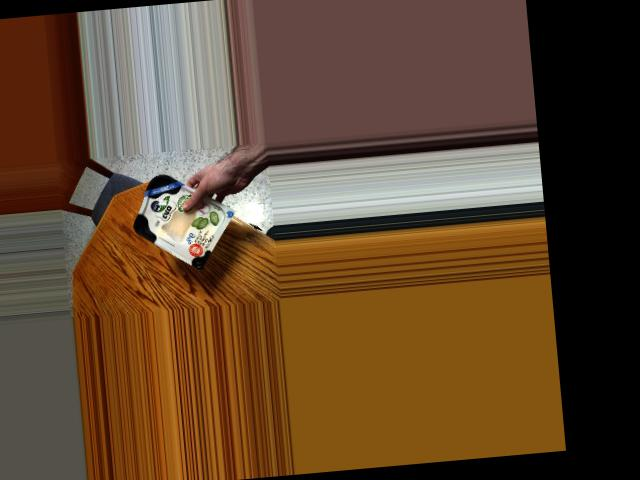cheese: (132, 164, 222, 268)
